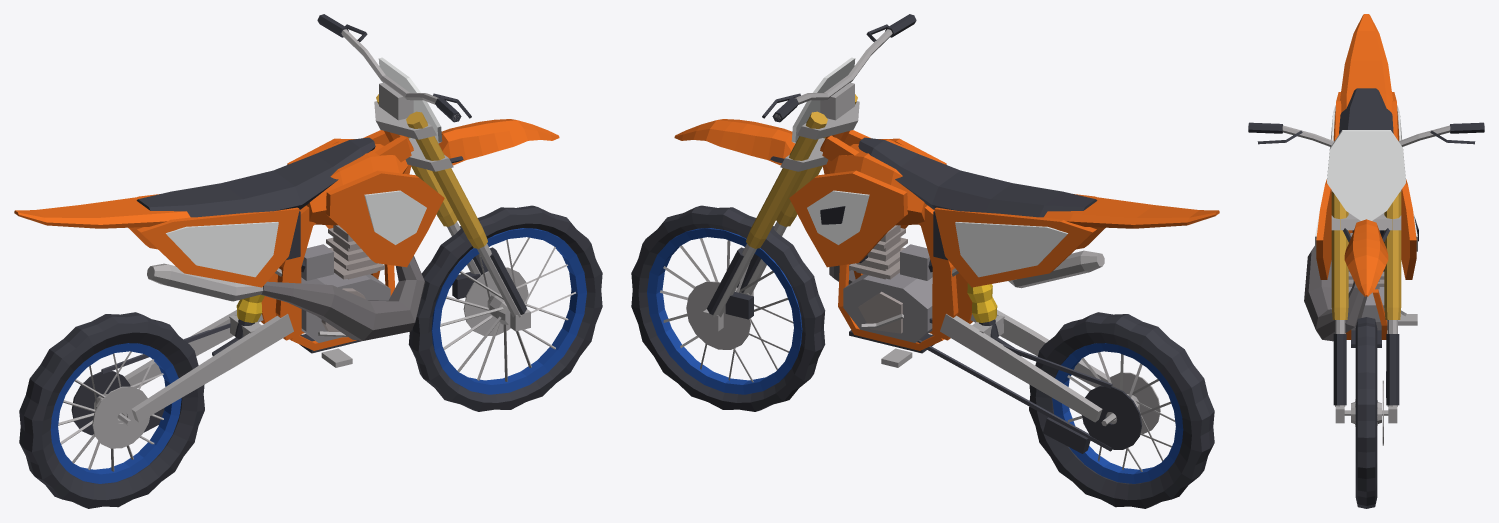
Rendered from race_bike_mini.glb.
3 renders of one model, left to right at view 1: azimuth 30°, elevation 25°; view 2: azimuth 150°, elevation 25°; view 3: azimuth 270°, elevation 25°, orthographic. The views are drawn at different scales.
Visible parts, largest first — view 1: race_bike_mini; view 2: race_bike_mini; view 3: race_bike_mini.
Boxes of the visible parts, box(x1,y1,x2,y2) form: race_bike_mini: box(14, 14, 602, 508); race_bike_mini: box(631, 14, 1219, 508); race_bike_mini: box(1248, 14, 1484, 508).
Size of the model in its own units: 1.37 by 0.836 by 0.548.
